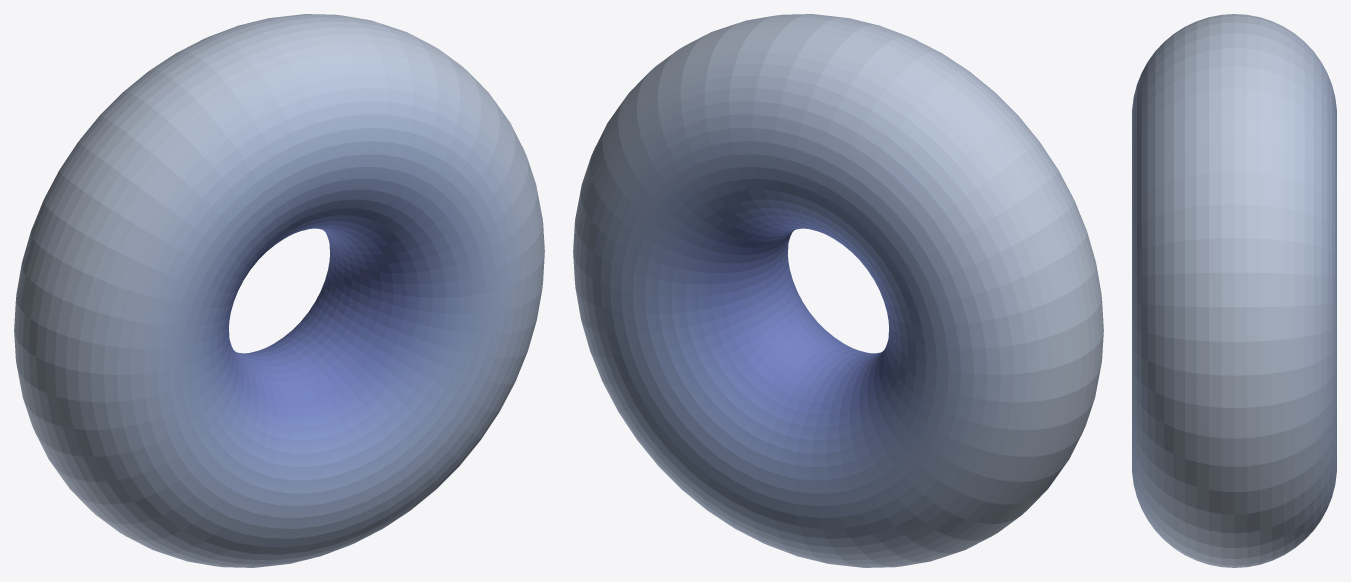
3 renders of one model, left to right at view 1: azimuth 30°, elevation 25°; view 2: azimuth 150°, elevation 25°; view 3: azimuth 270°, elevation 25°, orthographic. The views are drawn at different scales.
Visible parts, largest first — view 1: world; view 2: world; view 3: world.
Boxes of the visible parts, box(x1,y1,x2,y2) form: world: box(14, 14, 544, 567); world: box(573, 14, 1103, 567); world: box(1132, 14, 1336, 567).
Size of the model in its own units: 19.07 by 19.03 by 7.05.
